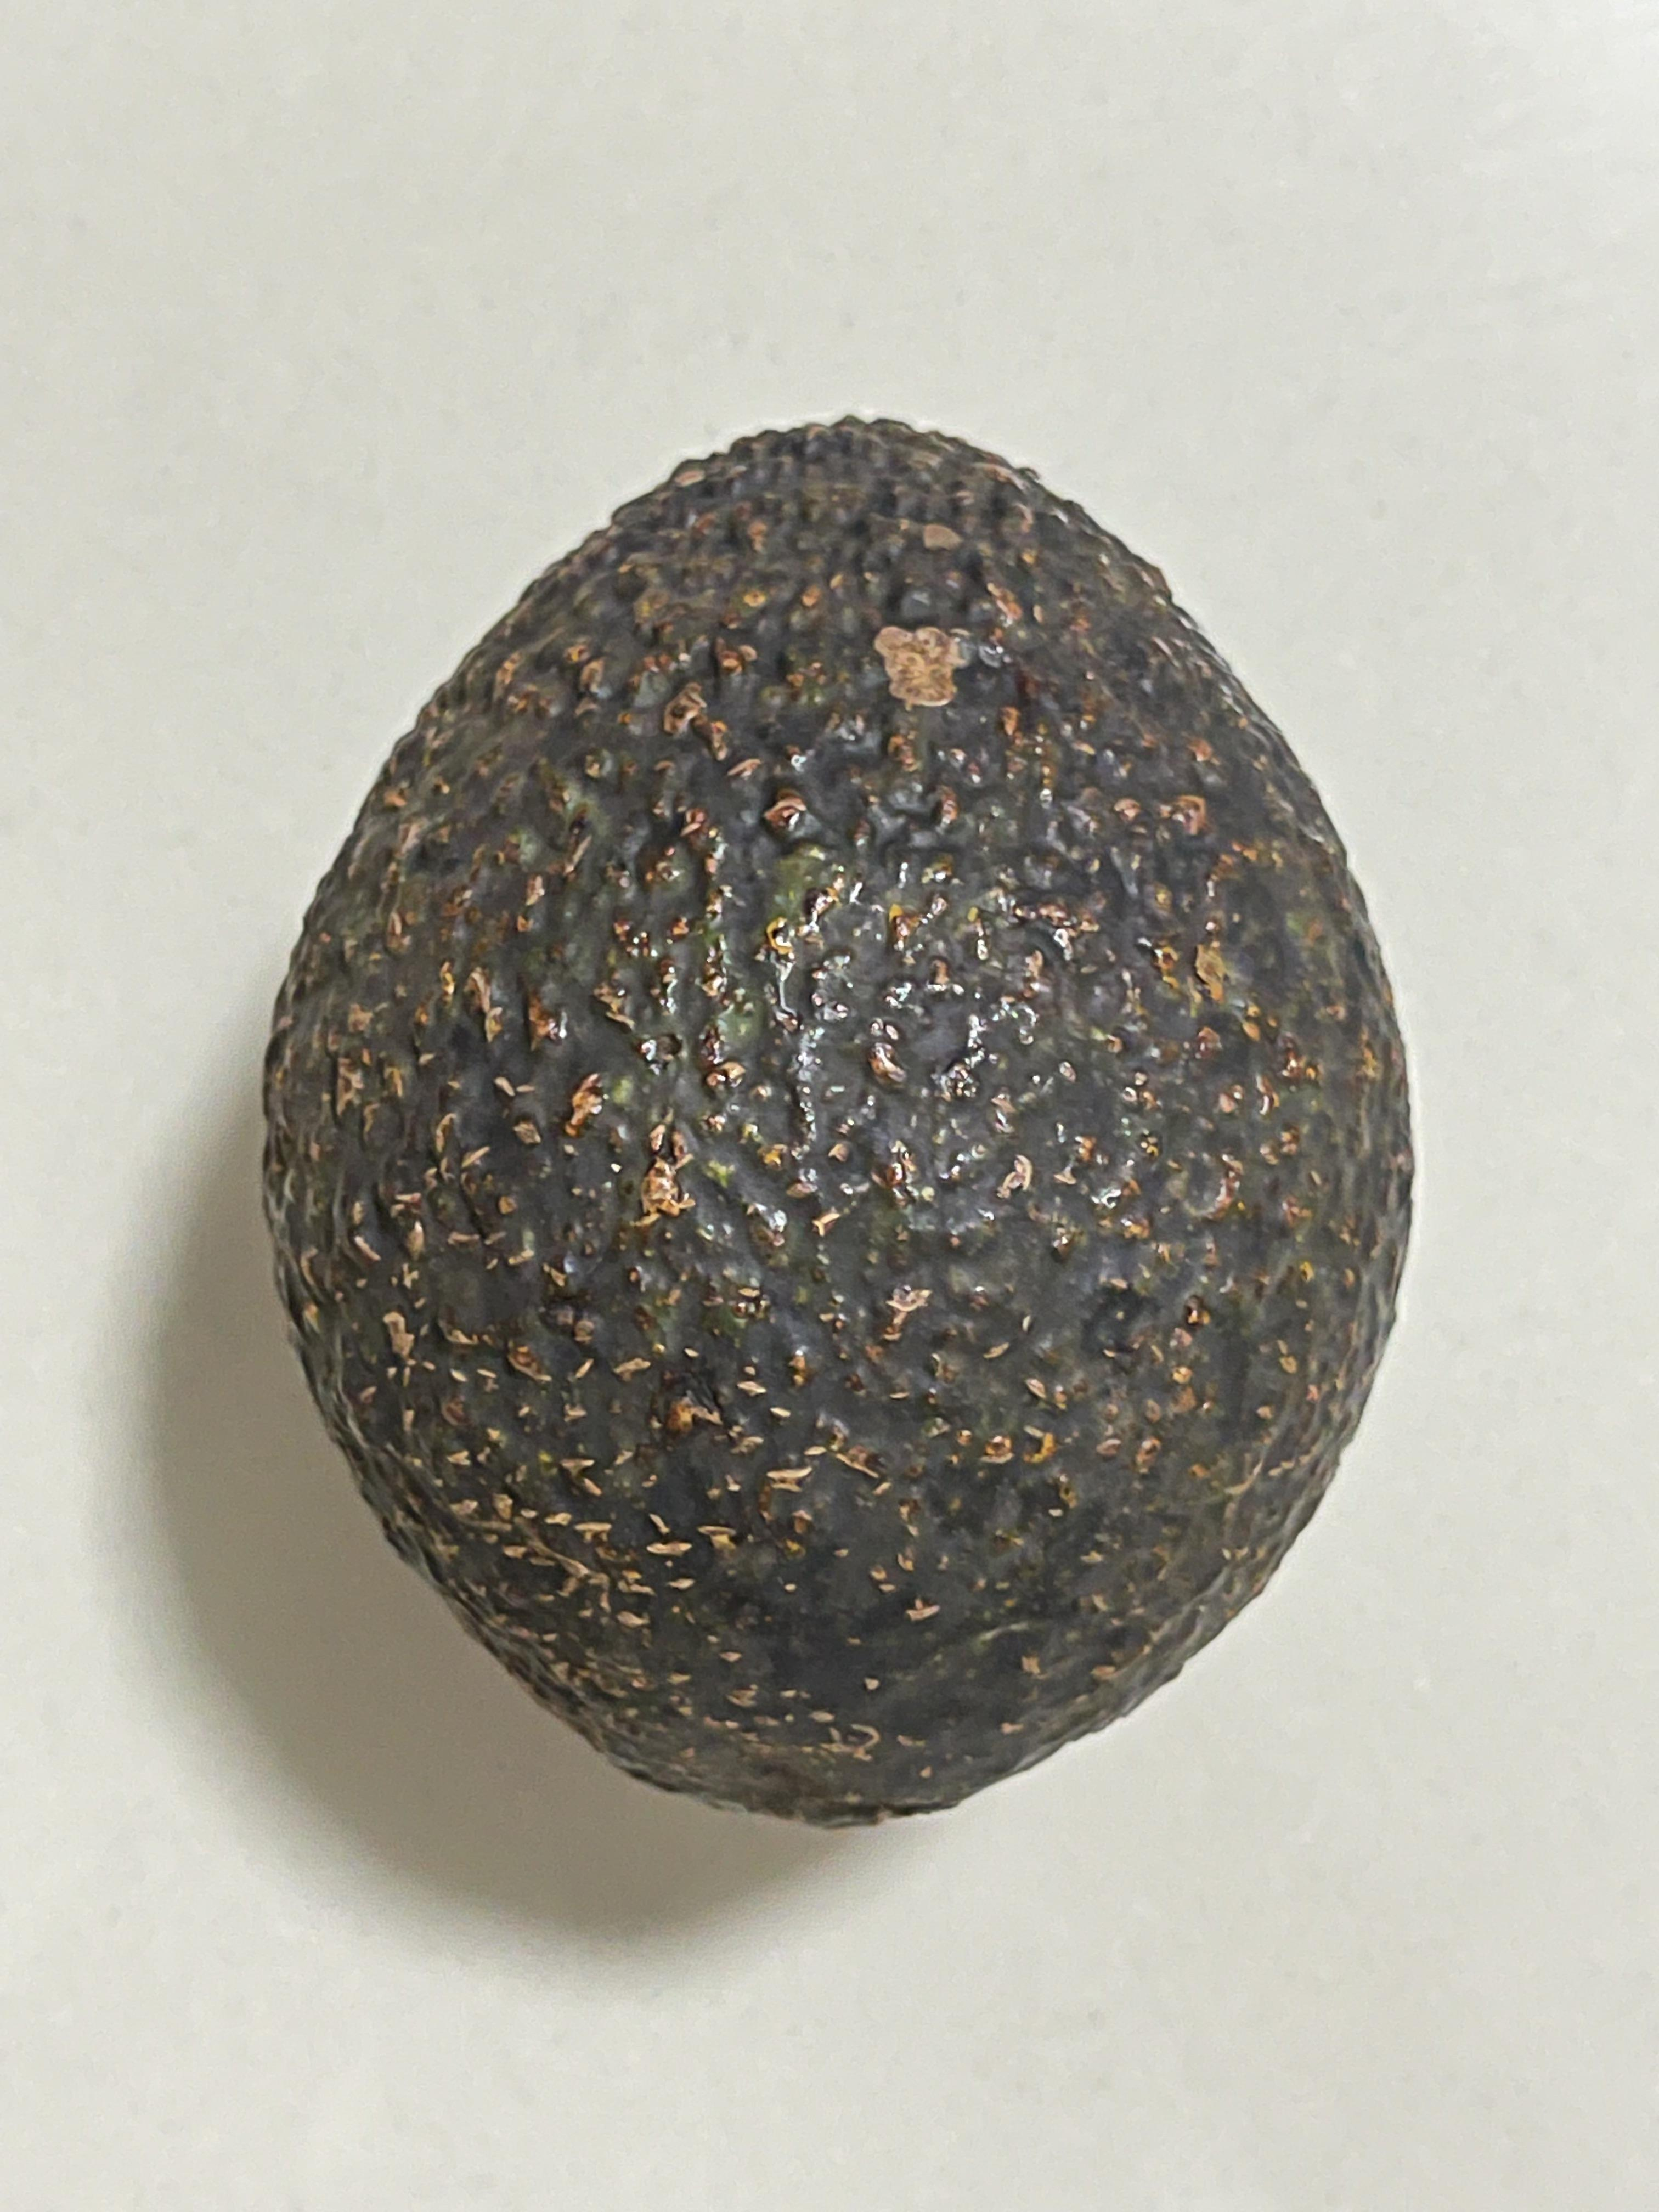Level2: (242, 383, 1441, 1853)
